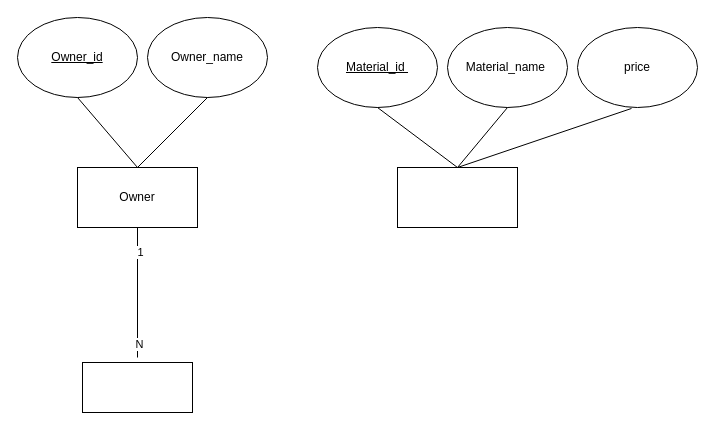
Some shapes in this 715 by 430 pixel diagram are drawn without their labels. The shapes that lost their labels are listed below. From the top down, each one's box as (x1, y1, x2, y2) in pixels, then its label:
(396, 166, 518, 228): Material
(82, 362, 192, 412): Address
